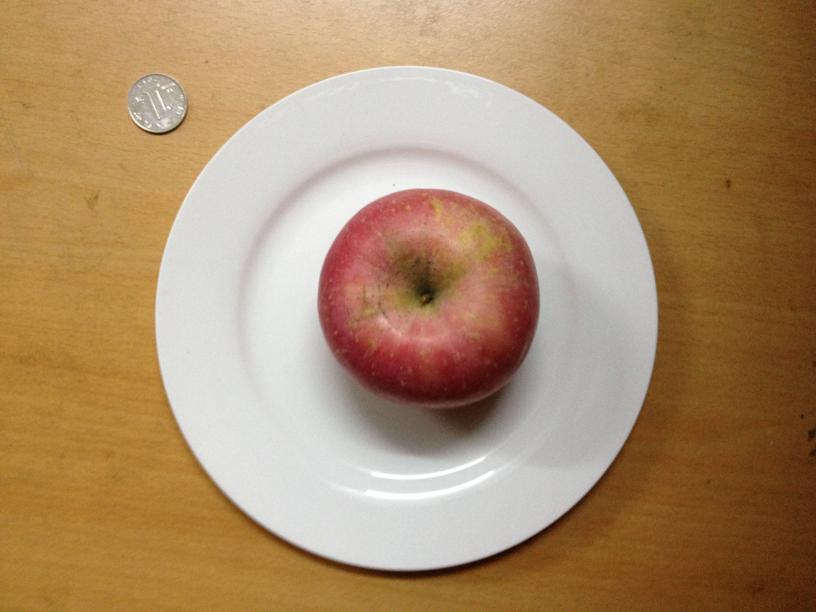apple: (320, 188, 540, 409)
coin: (129, 73, 187, 135)
